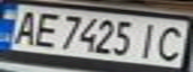2: (93, 16, 118, 56)
4: (75, 15, 100, 54)
5: (112, 17, 139, 57)
7: (54, 12, 81, 52)
A: (6, 7, 42, 46)
C: (148, 24, 190, 62)
E: (27, 9, 63, 48)
I: (133, 20, 166, 60)
